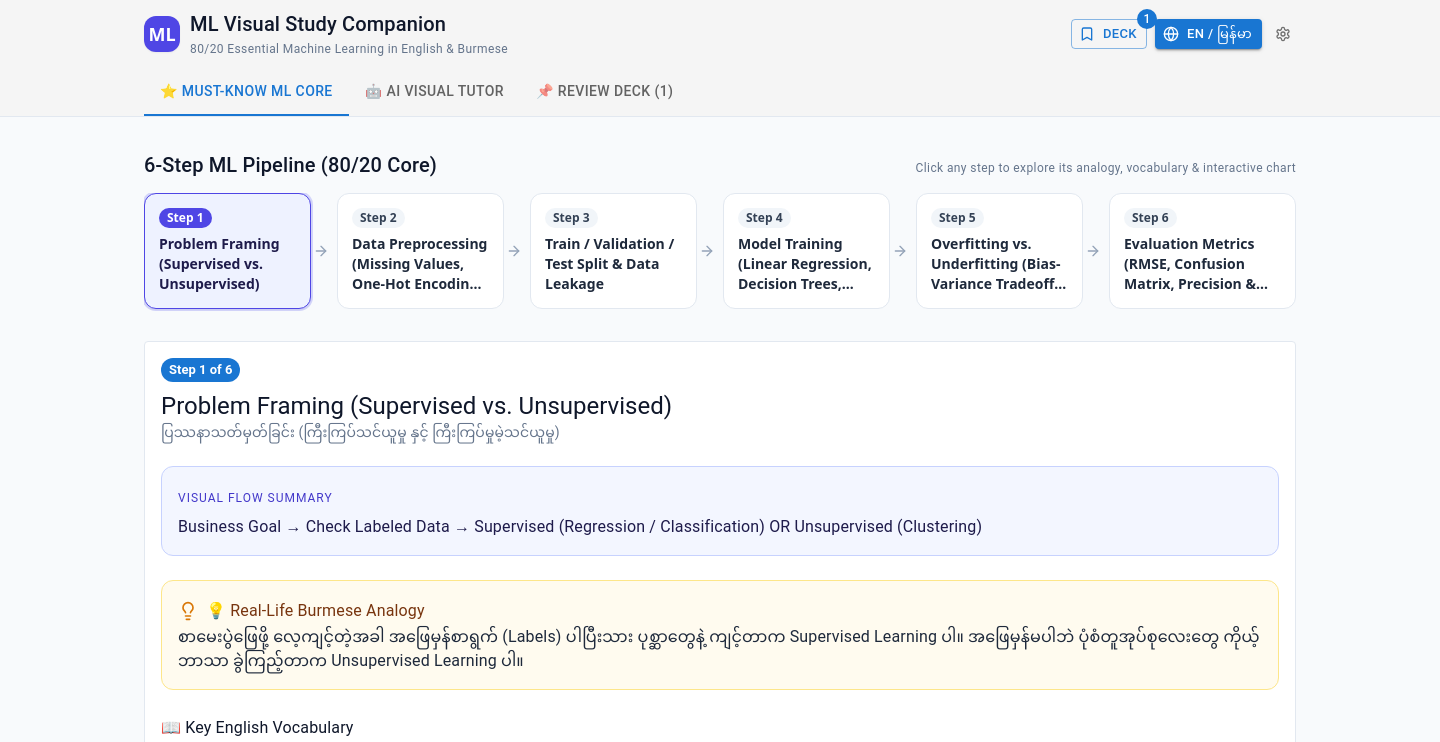
ReviewDeck component and Flashcard integration › updates header badge count when removing a mastered card from Review Deck in App
Check: the element named "Saved flashcards: 1" is shown, box 1071,19 -> 1147,49
# Navigate to Review Deck tab
Click the tab "📌 Review Deck (1)": click(605, 92) 520,68 -> 690,116
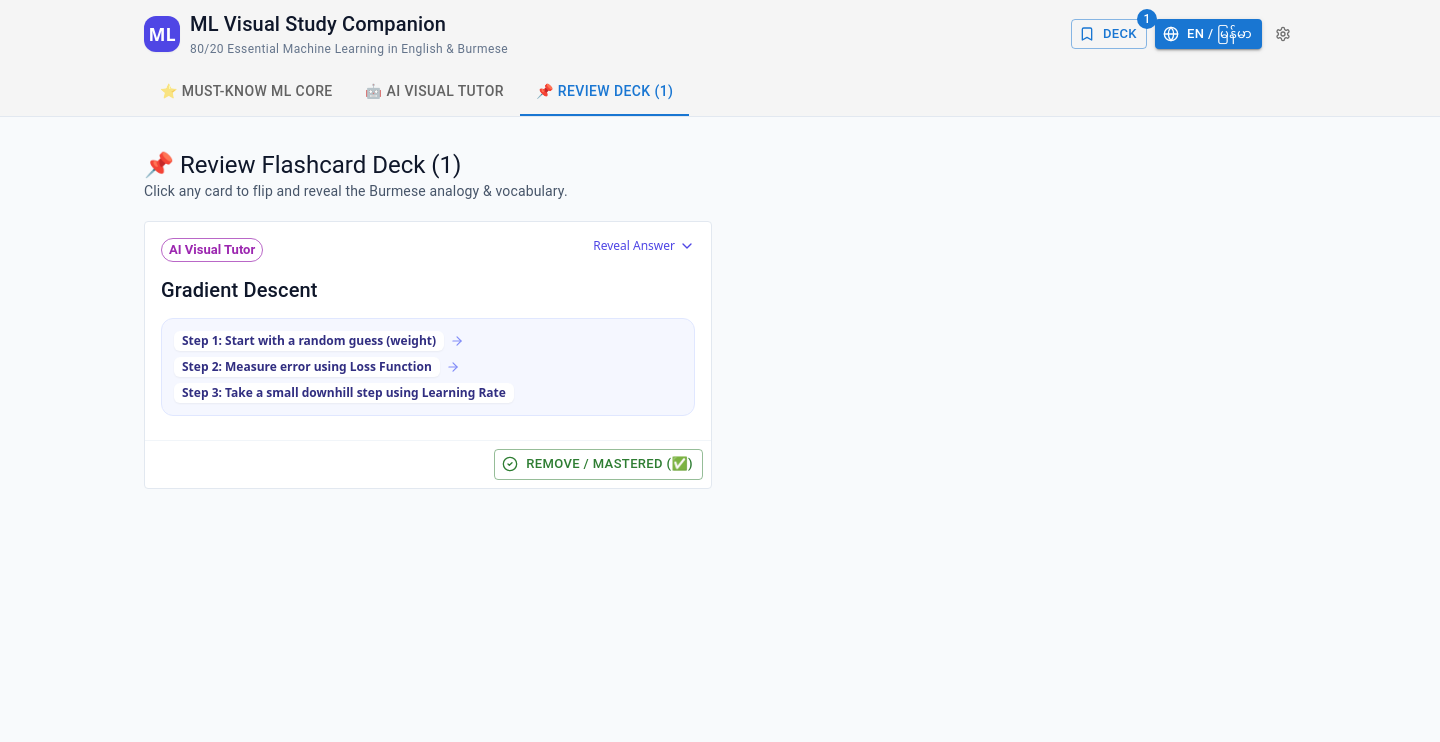
# Remove the card
Click the button "Remove / Mastered (✅)": click(599, 464) 494,449 -> 703,480
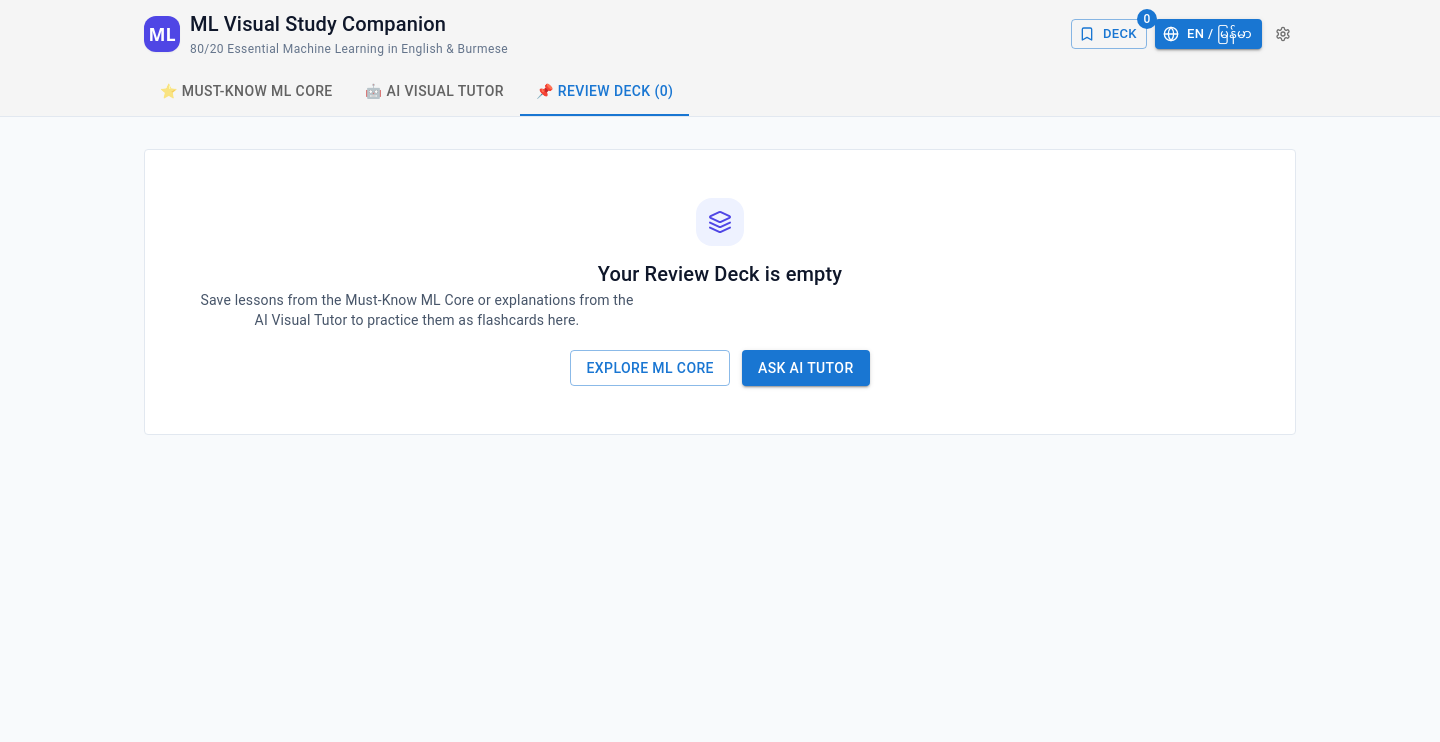
Check: the element named "Saved flashcards: 0" is shown, box 1071,19 -> 1147,49
Check: the heading "Your Review Deck is empty" is shown, box 598,262 -> 842,286
